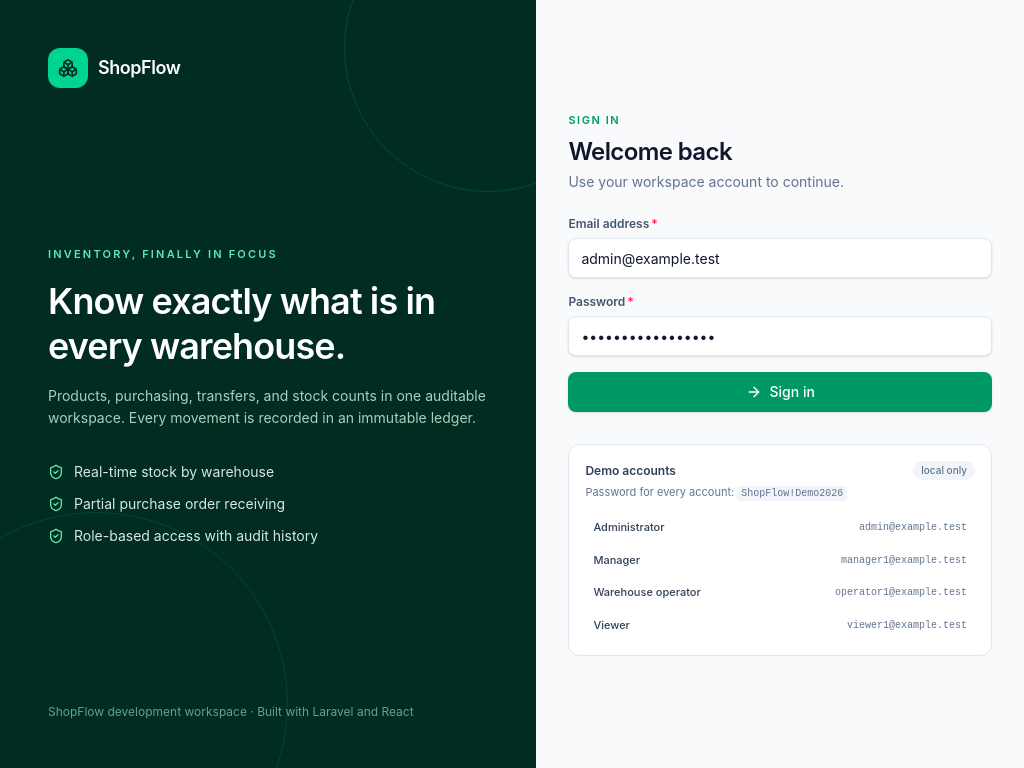
LoginPage › shows a readable error for invalid credentials
Click the button "Sign in". click: click(780, 392)
box: [568,372,992,412]
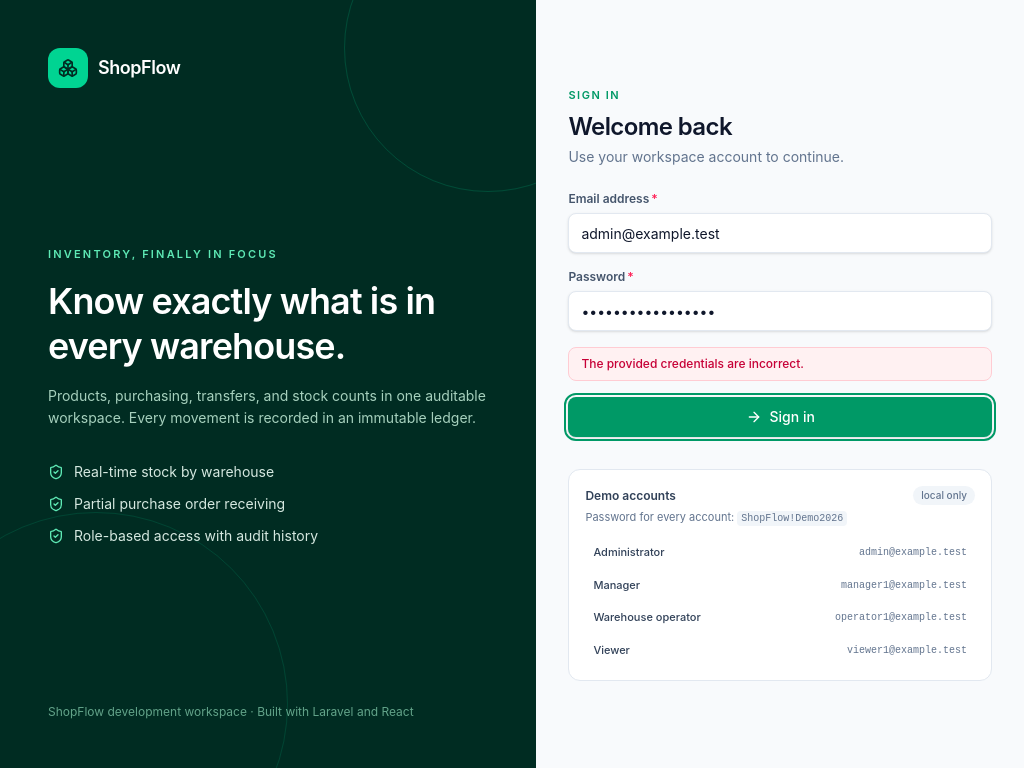
expect the message reads "The provided credentials are incorrect.": met, box [581,356,804,371]
